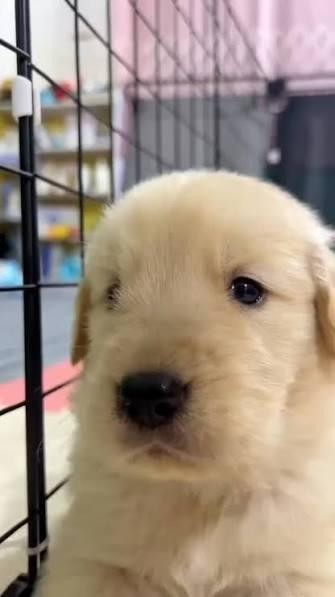puppy-dog: (37, 172, 335, 597)
